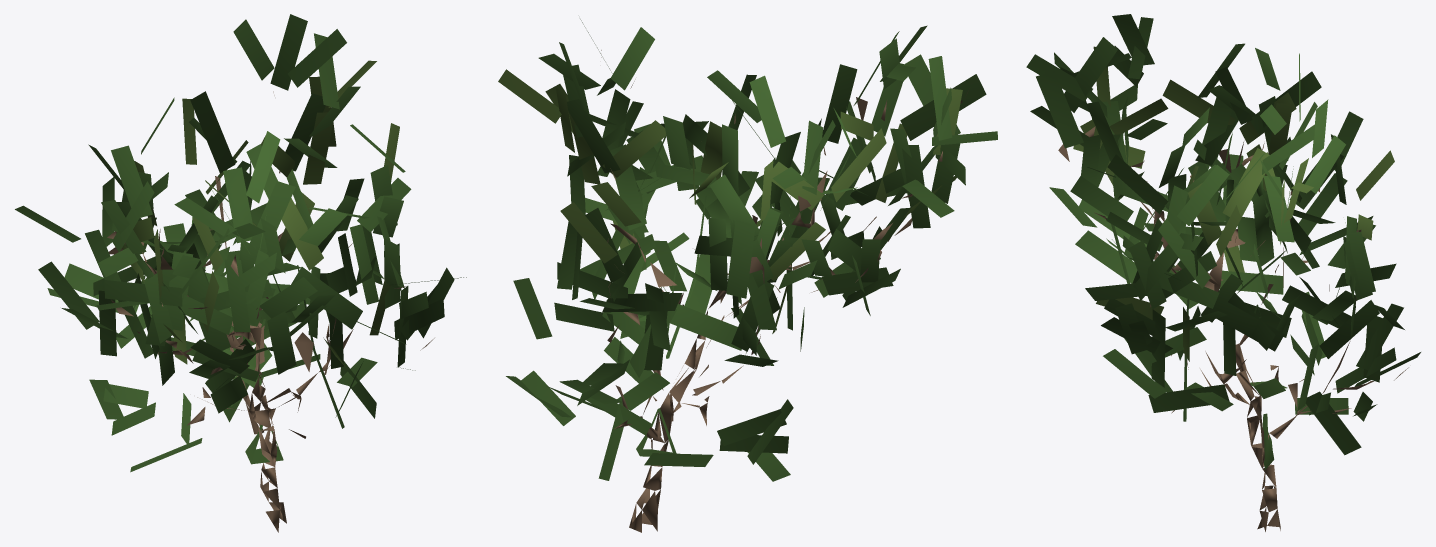
The model's file is arvore_5_muito_longe.glb.
The picture shows the model from 3 angles, left to right: view 1: azimuth 30°, elevation 25°; view 2: azimuth 150°, elevation 25°; view 3: azimuth 270°, elevation 25°; orthographic projection. The views are drawn at different scales.
Visible parts, largest first — view 1: arvore_5_muito_longe; view 2: arvore_5_muito_longe; view 3: arvore_5_muito_longe.
Boxes of the visible parts, bbox=[...] form: arvore_5_muito_longe: bbox=[15, 14, 466, 532]; arvore_5_muito_longe: bbox=[498, 19, 997, 532]; arvore_5_muito_longe: bbox=[1026, 14, 1420, 531].
Size of the model in its own units: 1.33 by 1.69 by 1.28.
